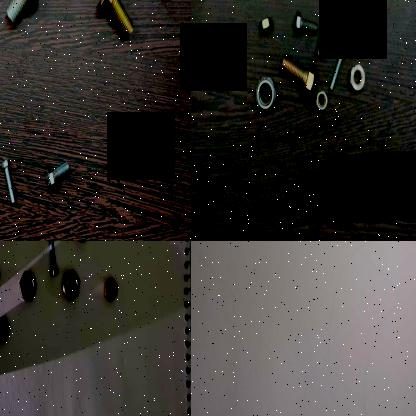Bolts: (280, 53, 316, 98), (96, 0, 133, 43), (335, 18, 368, 52), (5, 0, 37, 35), (40, 156, 70, 193), (0, 152, 17, 204), (314, 18, 332, 62), (289, 7, 317, 35), (328, 48, 345, 92), (46, 241, 59, 286)
NUTS: (252, 71, 276, 111), (348, 56, 366, 94), (17, 266, 36, 301), (61, 269, 80, 303), (101, 276, 118, 304), (258, 11, 278, 31), (314, 88, 328, 114), (0, 312, 11, 341)
